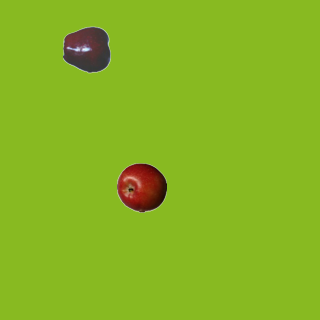Apple Braeburn: (116, 162, 166, 212)
Apple Red Delicious: (62, 24, 112, 74)
